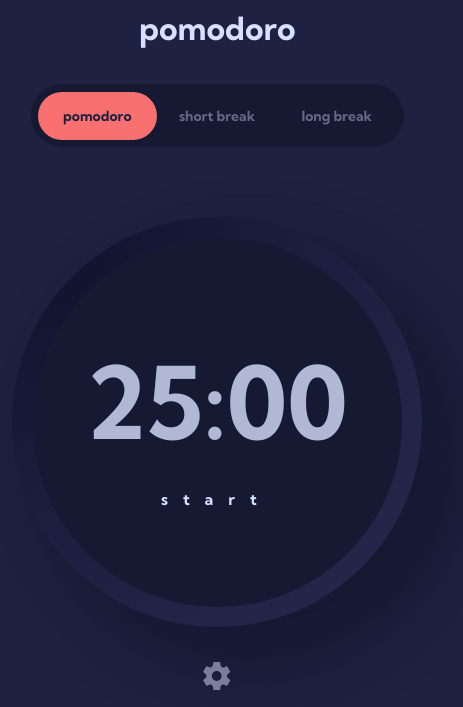
Home › Button pause renders after start
Click the button with test id "start-btn" at (217, 498), box left=161, top=488, right=273, bottom=509
Wait 1000 ms
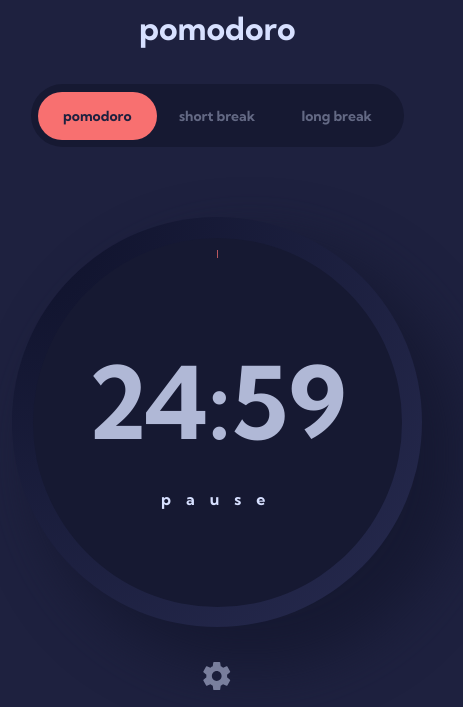
Now the button with test id "pause-btn" is shown, box left=161, top=488, right=273, bottom=509
